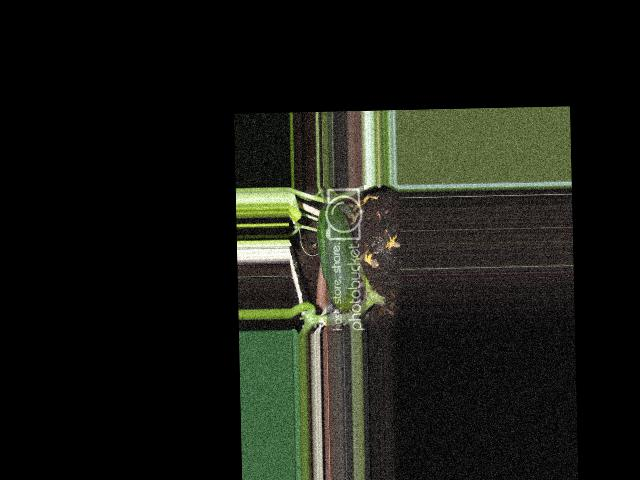cucumber: (316, 204, 358, 311)
